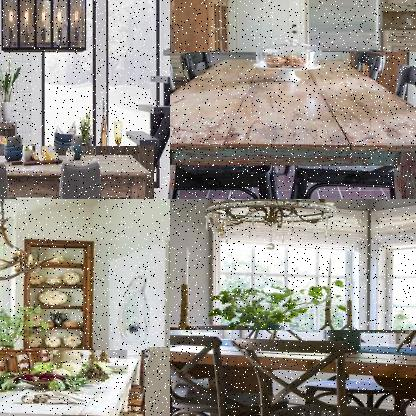table: (170, 52, 415, 198), (170, 330, 415, 415), (0, 350, 146, 415), (0, 146, 155, 198)
